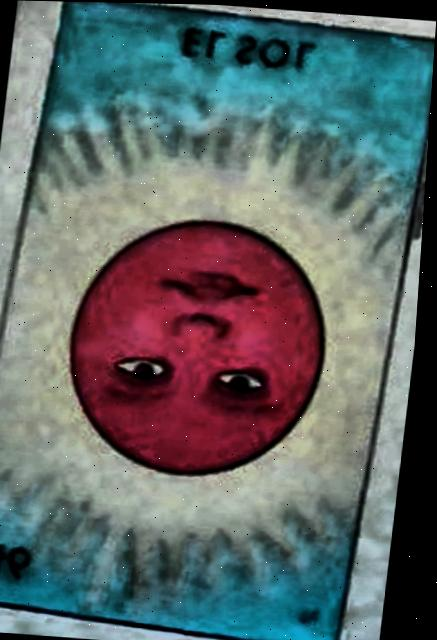El Sol: (0, 1, 435, 640)
